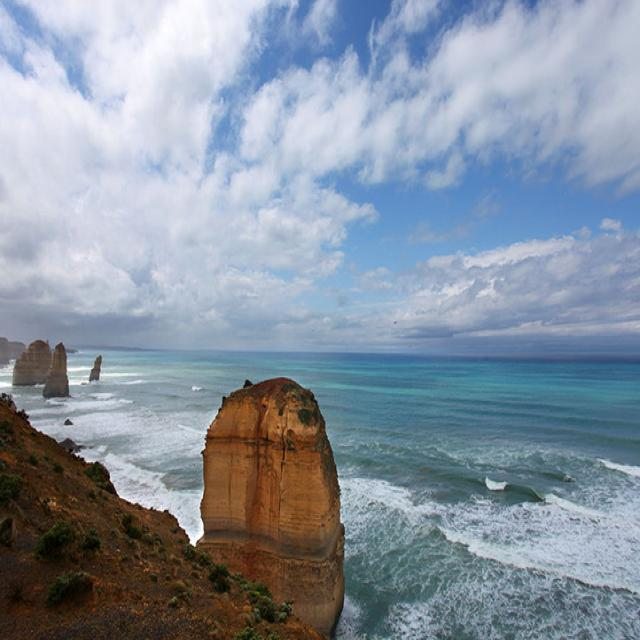reef: (189, 367, 352, 577)
